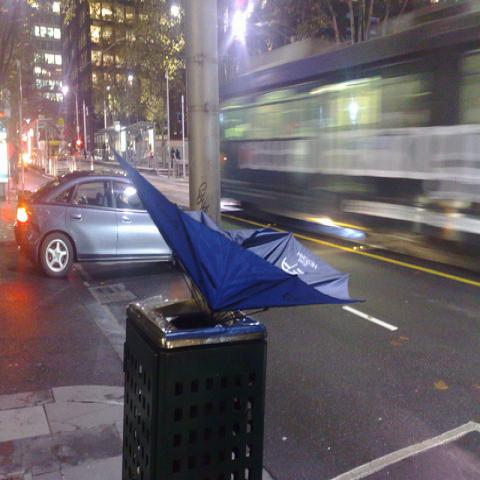car: (14, 170, 177, 278)
